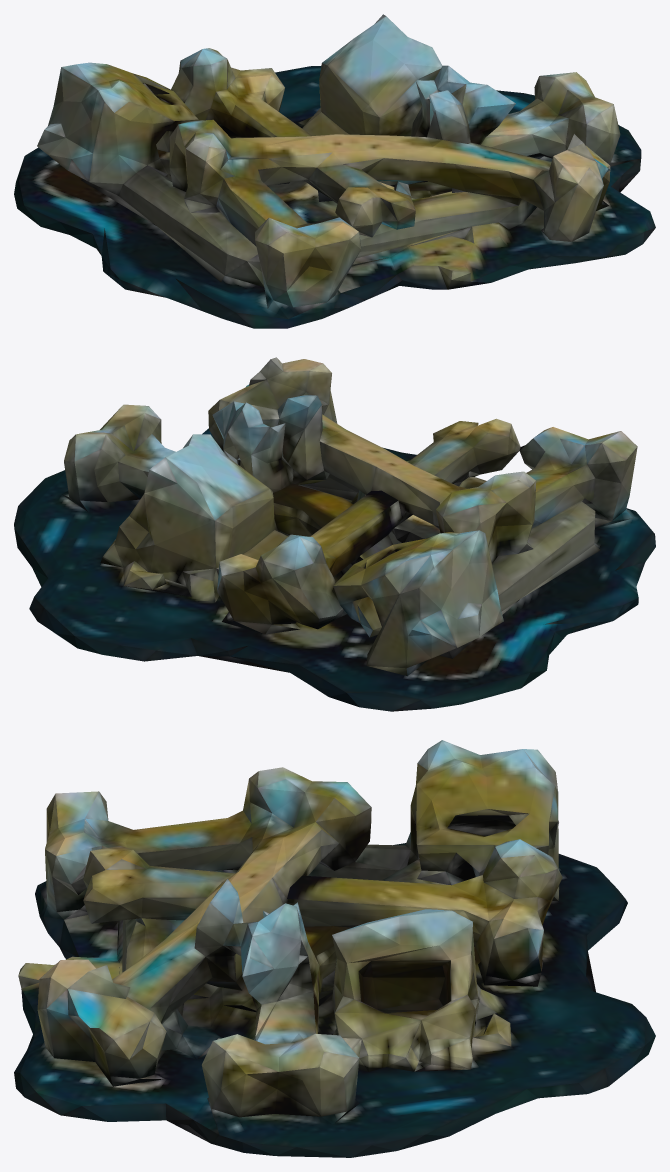
Rendered from rimed_bones.glb.
3 views of the same model, one above another, from view 1: azimuth 30°, elevation 25°; view 2: azimuth 150°, elevation 25°; view 3: azimuth 270°, elevation 25° (orthographic). The views are drawn at different scales.
Parts seen in each view (by area): view 1: tripo_node_88bd98a3-4b3d-4439-b18d-0ec9b26f54b9.001; view 2: tripo_node_88bd98a3-4b3d-4439-b18d-0ec9b26f54b9.001; view 3: tripo_node_88bd98a3-4b3d-4439-b18d-0ec9b26f54b9.001.
Part boxes in pixels (<box>): tripo_node_88bd98a3-4b3d-4439-b18d-0ec9b26f54b9.001: <box>14,14,655,328</box>; tripo_node_88bd98a3-4b3d-4439-b18d-0ec9b26f54b9.001: <box>14,357,655,711</box>; tripo_node_88bd98a3-4b3d-4439-b18d-0ec9b26f54b9.001: <box>14,740,655,1157</box>.
Size of the model in its own units: 0.9939 by 0.2333 by 0.8631.
1 material, 1 textured.
